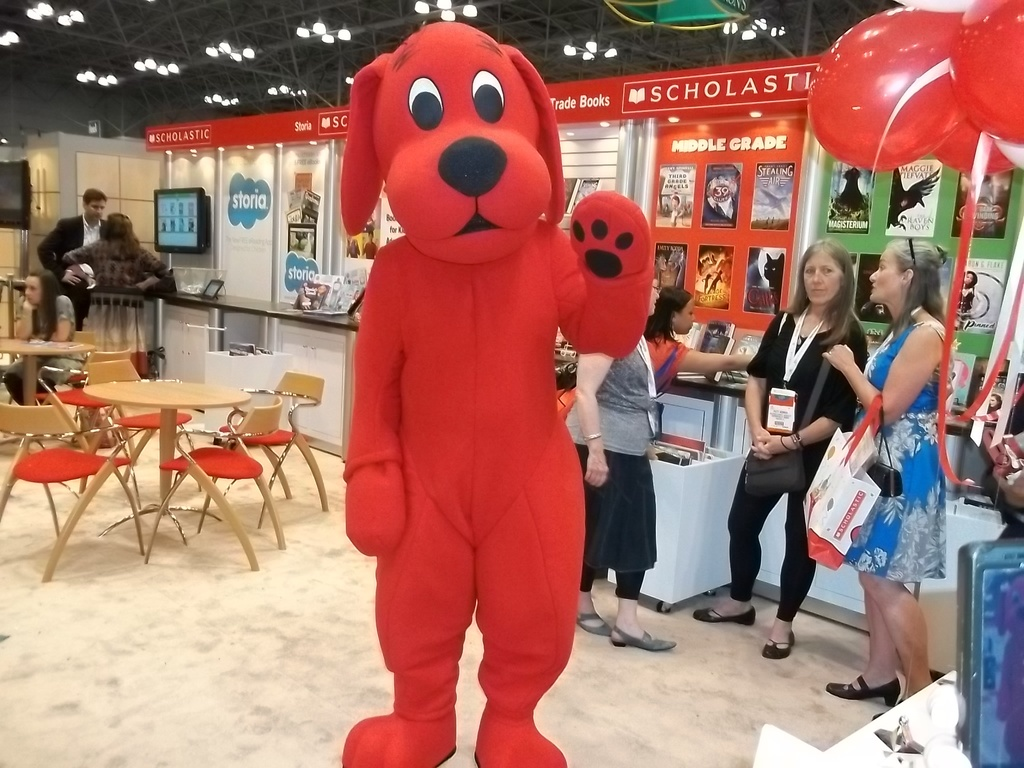Chair: (0, 399, 150, 580), (159, 396, 287, 566), (234, 369, 338, 495), (28, 346, 144, 426), (68, 361, 154, 440)
